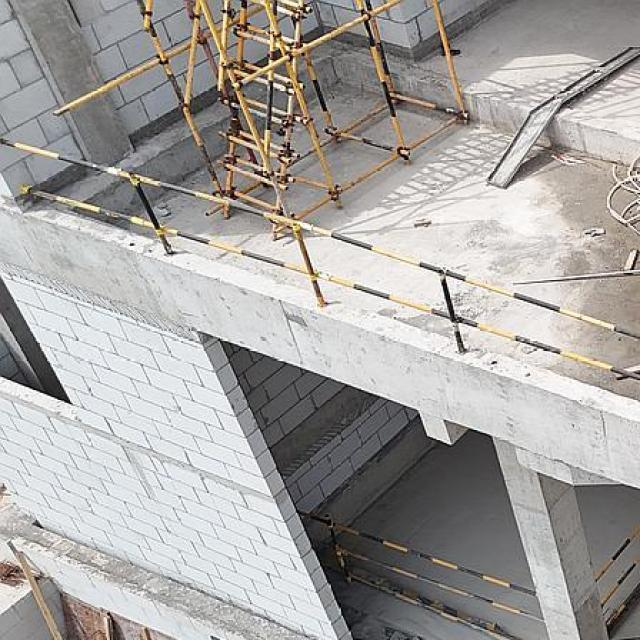edge_guardrail: (0, 137, 640, 382), (296, 510, 546, 640), (594, 526, 640, 628)
